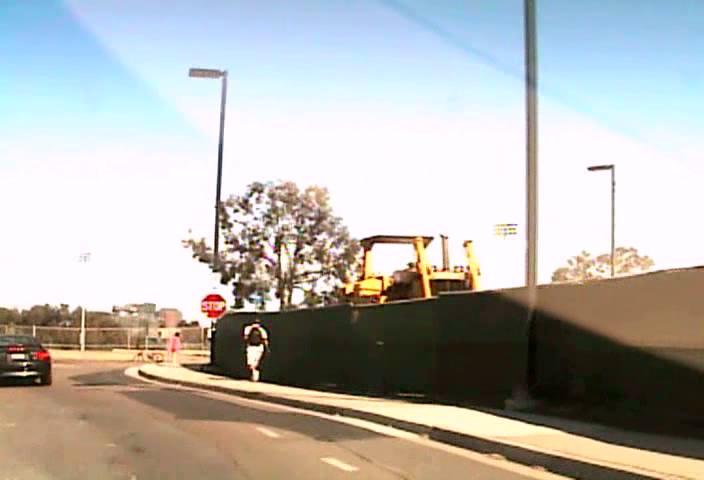stop: (200, 293, 226, 317)
